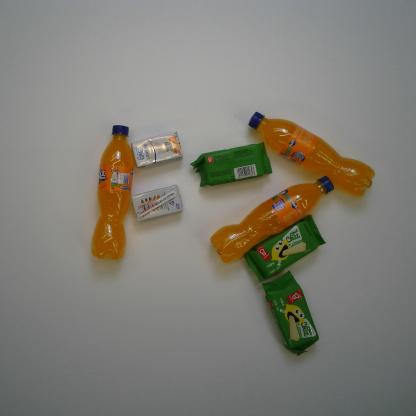Dessert: (243, 213, 327, 284), (261, 270, 320, 356), (189, 141, 273, 188)
Drink: (209, 174, 336, 265), (247, 111, 376, 198), (90, 124, 136, 262)
Milk: (130, 130, 184, 169), (131, 184, 184, 221)
